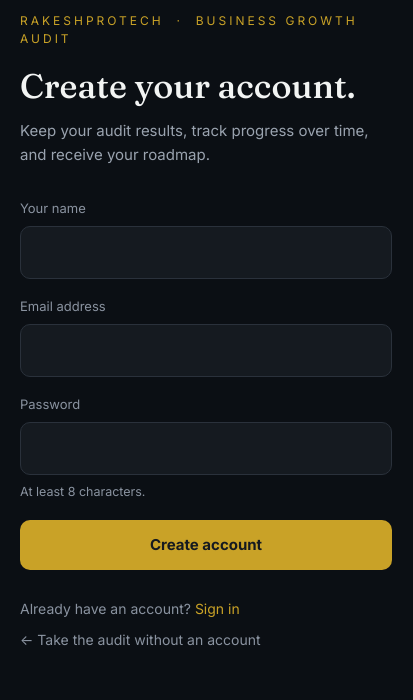
Test: AuthForm — register › rejects a short password before calling Supabase
Type "jane@co.com" into the field labelled "Email address" at (206, 351), box [20,324,392,377]
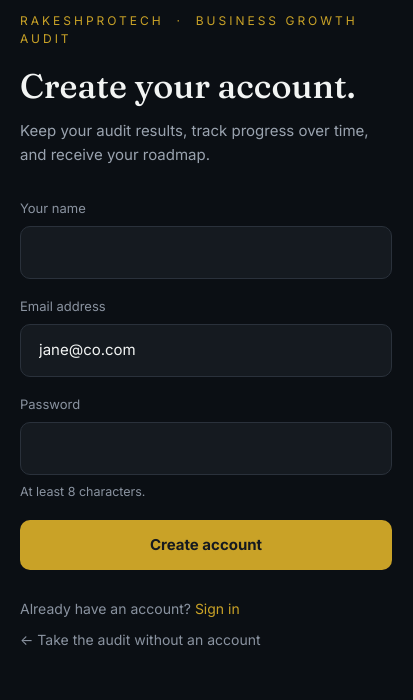
Type "short" into the password field labelled "Password" at (206, 449), box [20,422,392,475]
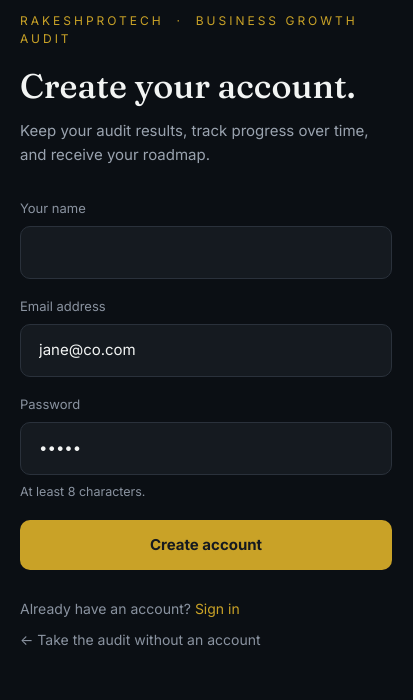
Click the button "Create account" at (206, 545), box [20,520,392,570]
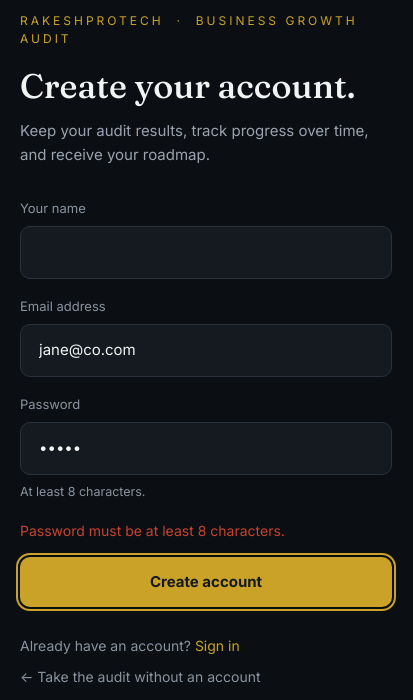
Expected: the message shows "at least 8 characters", [20,522,285,538]
